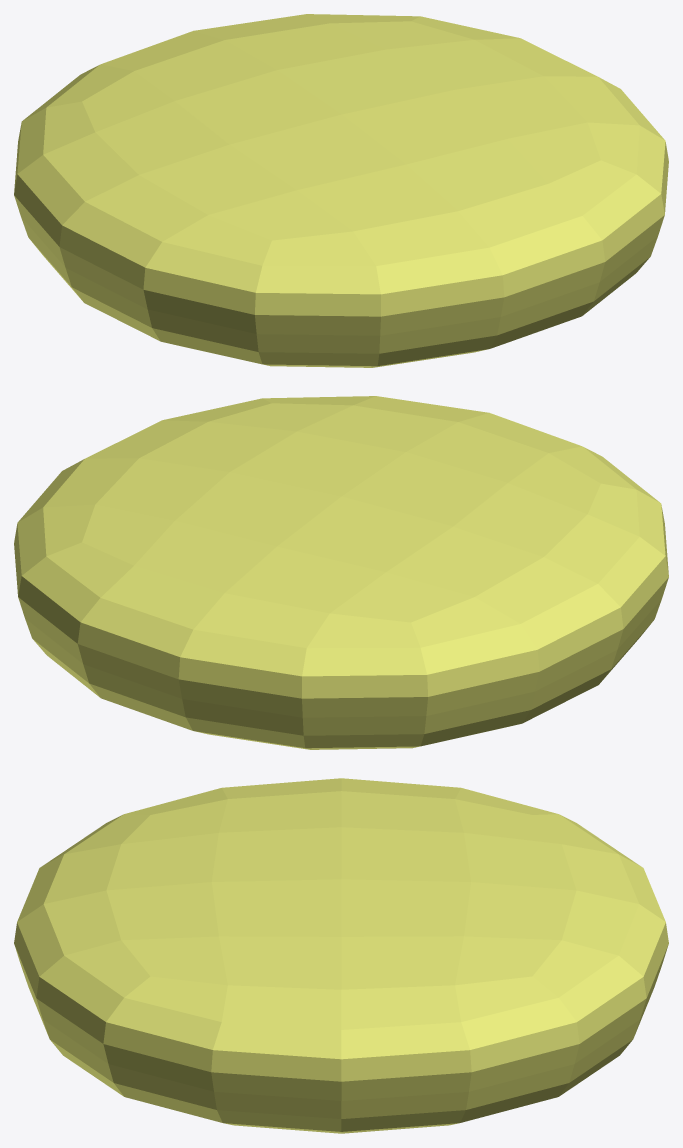
Rendered from BottomBun.fbx.
3 renders of one model, top to bottom at view 1: azimuth 30°, elevation 25°; view 2: azimuth 150°, elevation 25°; view 3: azimuth 270°, elevation 25°, orthographic.
Parts seen in each view (by area): view 1: Cube; view 2: Cube; view 3: Cube.
Boxes of the visible parts, x1,y1,x2,y2 form: Cube: [14, 14, 668, 367]; Cube: [14, 396, 668, 749]; Cube: [14, 778, 668, 1133].
Size of the model in its own units: 193 by 52.78 by 193.
